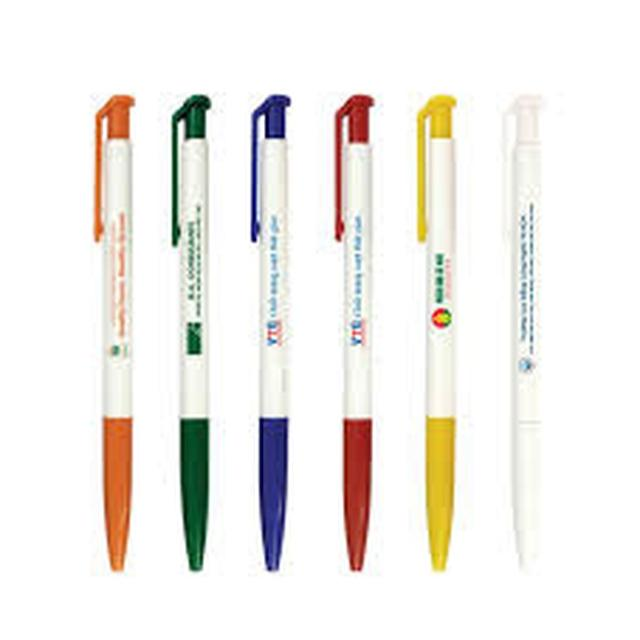pen: (492, 88, 583, 580), (234, 92, 312, 578), (399, 93, 468, 581), (74, 89, 140, 586), (169, 81, 210, 580), (338, 72, 374, 580)
